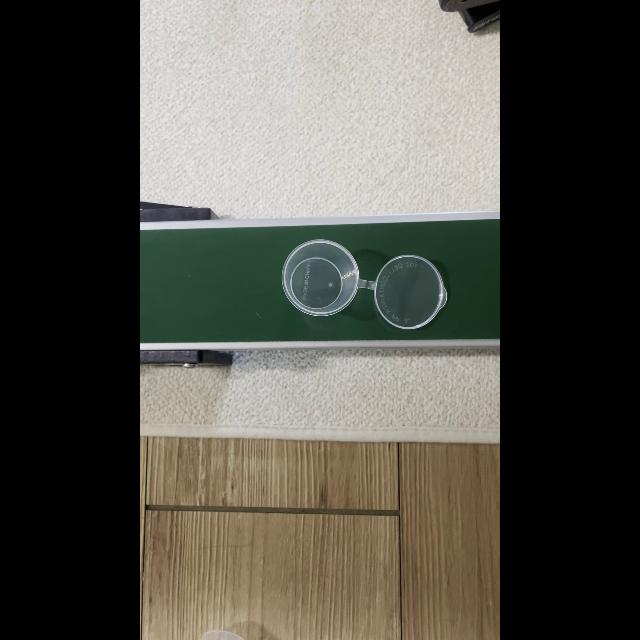clean: (282, 238, 450, 329)
